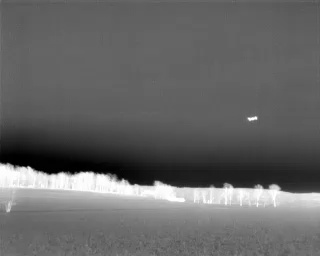DRONE: (243, 111, 263, 127)
